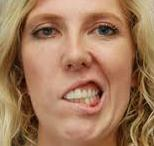strokeEyeWeak: (31, 11, 123, 48)
strokeMouthSevere: (52, 73, 112, 114)
